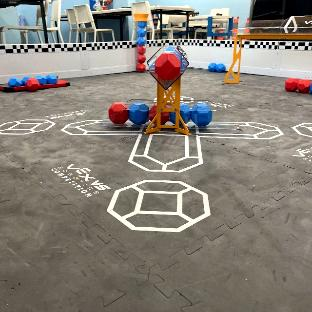V5_BLUE: (9, 74, 58, 89), (181, 103, 212, 126), (129, 103, 152, 124), (137, 20, 146, 46), (209, 64, 226, 72), (170, 113, 174, 121)
V5_RED: (156, 51, 179, 78), (285, 78, 312, 93), (109, 103, 128, 123), (25, 78, 39, 89), (137, 62, 144, 72)
